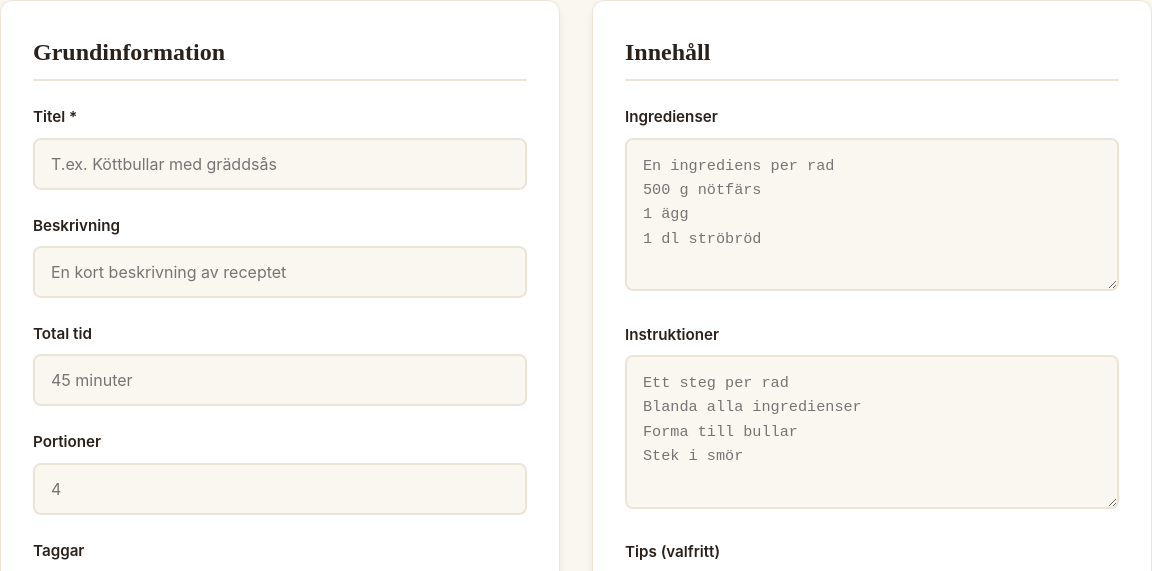
RecipeCreator › should handle Swedish characters in filename
Step 1. Type "Köttbullar med Ärtor" into the field labelled "Titel *" → (280, 164), box left=33, top=138, right=527, bottom=190
(page scrolled)
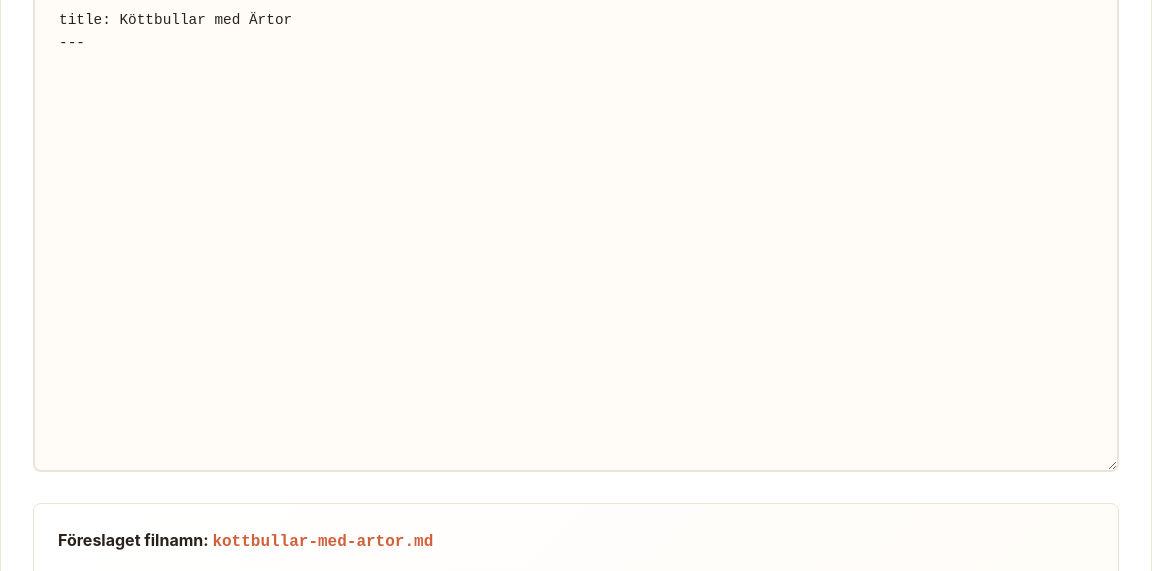
Now the text "kottbullar-med-artor.md" is shown, box left=212, top=534, right=433, bottom=552
